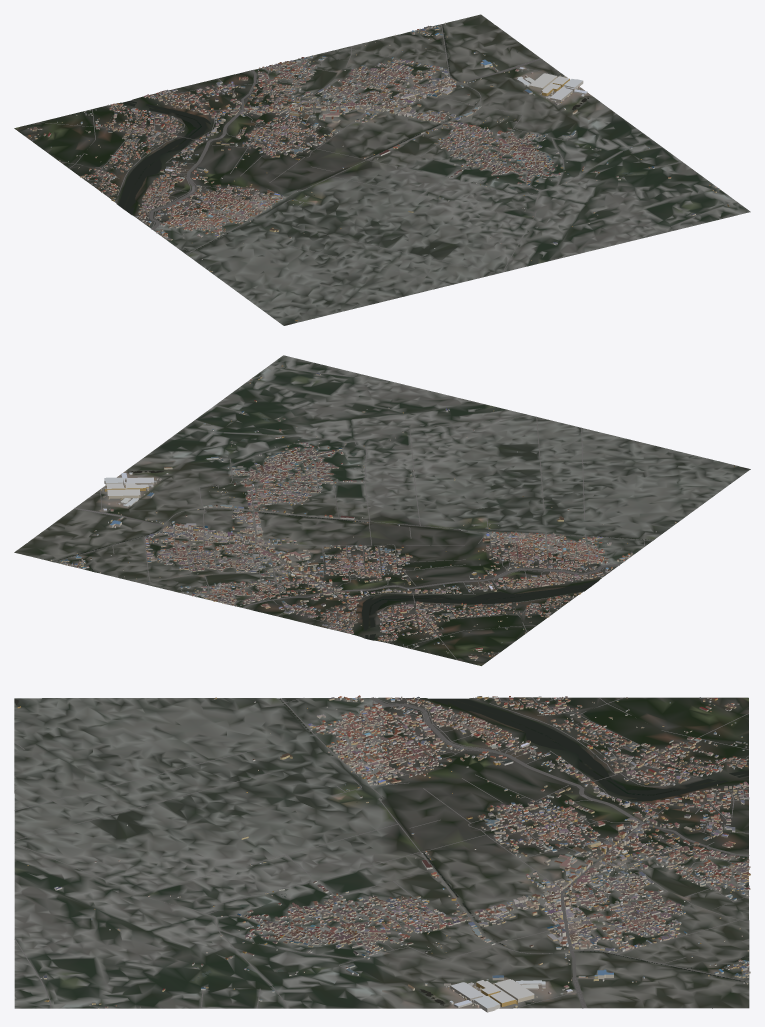
3 renders of one model, top to bottom at view 1: azimuth 30°, elevation 25°; view 2: azimuth 150°, elevation 25°; view 3: azimuth 270°, elevation 25°, orthographic. The views are drawn at different scales.
Parts seen in each view (by area): view 1: ground, buildings, roads, water; view 2: ground, buildings, roads, water; view 3: ground, buildings, roads, water.
Part boxes in pixels (box(x1,y1,x2,y2)): ground: box(14, 14, 750, 325); buildings: box(27, 22, 729, 321); roads: box(38, 24, 737, 309); water: box(118, 25, 643, 325); ground: box(14, 355, 750, 665); buildings: box(50, 365, 734, 660); roads: box(54, 365, 676, 660); water: box(55, 413, 748, 640); ground: box(14, 697, 749, 1008); buildings: box(17, 695, 750, 1012); roads: box(14, 697, 749, 1008); water: box(14, 698, 748, 1005).
Size of the model in its own units: 2845 by 30.56 by 2813.
